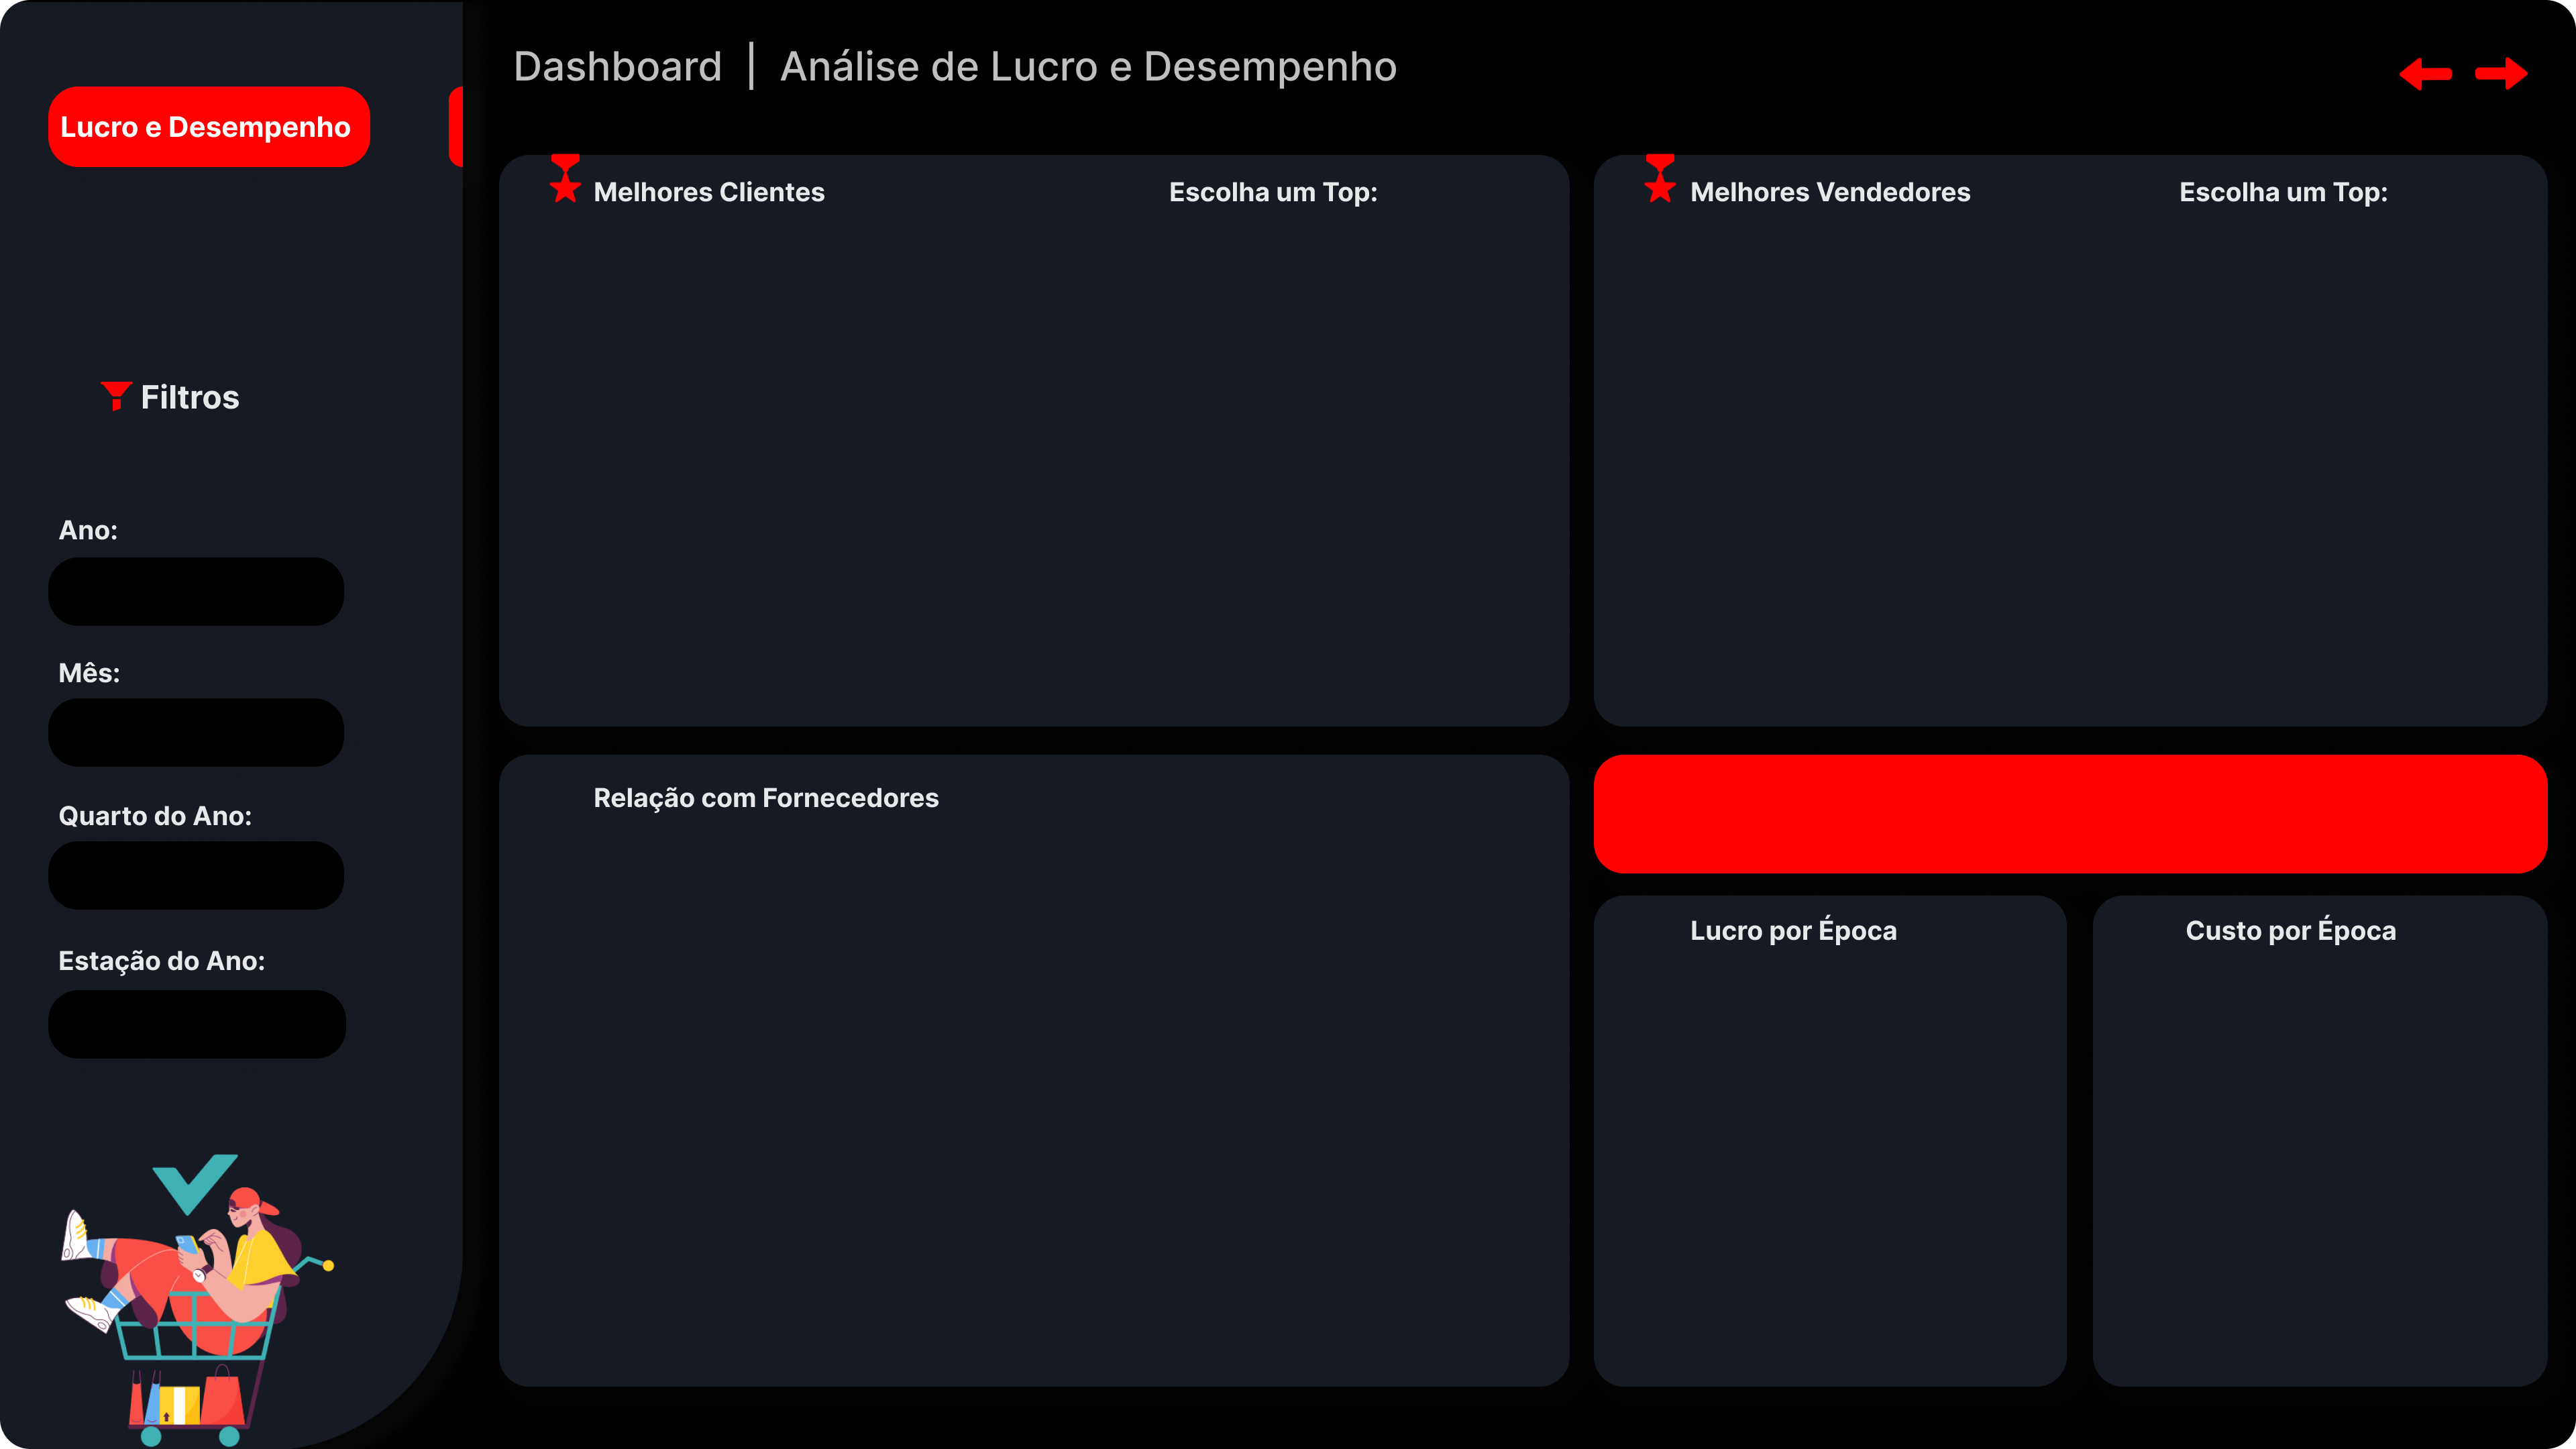

The page's visual inventory and layout, read from the dashboard file:
{"tool":"powerbi","page":{"name":"Lucro e Desempenho","canvas":[1280,720],"ordinal":1},"visuals":[{"type":"tableEx","fields":{"Values":["MEDIDAS COMPLEMENTARES.TOPN","DIM_CLIENTE.NOME","DIM_CLIENTE.CIDADE","DIM_CLIENTE.ESTADO","MEDIDAS COMPLEMENTARES.01 RANKY CLIENTE"]},"box":[252.3,135.7,527.2,226.1],"z":0},{"type":"slicer","fields":{"Values":["TOP N.TOP N"]},"box":[679.4,73.9,105.4,82.3],"z":1000},{"type":"tableEx","fields":{"Values":["MEDIDAS COMPLEMENTARES.03 RANKING VENDEDORES","DIM_VENDEDOR.NOME","MEDIDAS COMPLEMENTARES.03 RANKING VENDEDORES1"]},"box":[796.3,131.5,466.7,220.6],"z":2000},{"type":"slicer","fields":{"Values":["TOP V.TOP V"]},"box":[1178.3,72.7,101.7,76.3],"z":3000},{"type":"pivotTable","fields":{"Rows":["DIM_TEMPO.ESTACAOANO","DIM_TEMPO.Nome do Mês"],"Values":["FATO.CUSTOTOTAL"]},"box":[1042.6,494.1,220.4,190.1],"z":4000},{"type":"pivotTable","fields":{"Values":["FATO.LUCROTOTAL"],"Rows":["DIM_TEMPO.ESTACAOANO","DIM_TEMPO.Nome do Mês"]},"box":[796.8,494.1,227.7,190.1],"z":5000},{"type":"pivotTable","fields":{"Rows":["CATEGORIA.NOME","DIM_FORNECEDOR.NOME"],"Values":["FATO.TOTALITEM","FATO.CUSTOTOTAL","FATO.LUCROTOTAL"]},"box":[254.7,417.7,527.2,235.6],"z":6000},{"type":"slicer","fields":{"Values":["DIM_TEMPO.ANO"]},"box":[21.4,270.1,147.6,45.2],"z":7000},{"type":"slicer","fields":{"Values":["DIM_TEMPO.NOME DO MÊS"]},"box":[22.6,339.2,145.2,40.5],"z":8000},{"type":"slicer","fields":{"Values":["DIM_TEMPO.NOMEQUARTO"]},"box":[22.6,410.6,150,41.7],"z":9000},{"type":"slicer","fields":{"Values":["DIM_TEMPO.ESTACAOANO"]},"box":[22.6,485.6,150,41.7],"z":10000},{"type":"actionButton","box":[1191.3,21.4,28.6,29.8],"z":11000},{"type":"actionButton","box":[1230.5,21.4,32.1,29.8],"z":12000}]}

Visuals, with their boxes in screenshot pixels (x1, y1, x2, y2), scaled from the page's 1280x720 canvas onto the 2576x1449 screenshot:
tableEx - MEDIDAS COMPLEMENTARES.TOPN x DIM_CLIENTE.NOME: bbox=(508, 273, 1568, 728)
slicer - TOP N.TOP N: bbox=(1367, 149, 1579, 315)
tableEx - MEDIDAS COMPLEMENTARES.03 RANKING VENDEDORES x DIM_VENDEDOR.NOME: bbox=(1603, 264, 2542, 708)
slicer - TOP V.TOP V: bbox=(2371, 146, 2575, 300)
pivotTable - DIM_TEMPO.ESTACAOANO x DIM_TEMPO.Nome do Mês: bbox=(2098, 994, 2542, 1377)
pivotTable - FATO.LUCROTOTAL x DIM_TEMPO.ESTACAOANO: bbox=(1603, 994, 2062, 1377)
pivotTable - CATEGORIA.NOME x DIM_FORNECEDOR.NOME: bbox=(513, 841, 1574, 1315)
slicer - DIM_TEMPO.ANO: bbox=(43, 543, 340, 635)
slicer - DIM_TEMPO.NOME DO MÊS: bbox=(46, 683, 337, 764)
slicer - DIM_TEMPO.NOMEQUARTO: bbox=(46, 826, 347, 910)
slicer - DIM_TEMPO.ESTACAOANO: bbox=(46, 977, 347, 1061)
actionButton: bbox=(2398, 43, 2455, 103)
actionButton: bbox=(2477, 43, 2541, 103)
